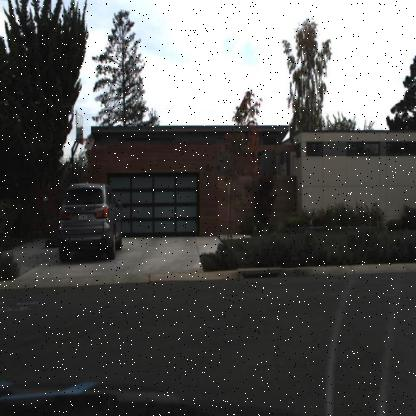car: (56, 181, 123, 257)
